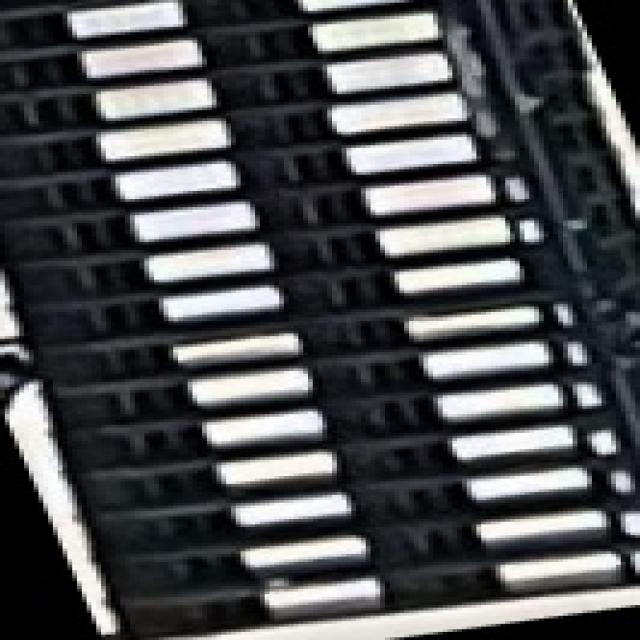igps: (1, 313, 640, 457), (0, 272, 640, 408), (0, 235, 640, 370), (18, 353, 640, 491), (43, 400, 640, 543), (0, 153, 614, 288), (0, 113, 592, 246), (0, 72, 580, 206), (0, 201, 616, 325), (75, 441, 640, 576), (0, 25, 539, 162), (68, 501, 640, 619), (0, 0, 515, 116), (80, 540, 640, 640), (0, 0, 419, 67)
